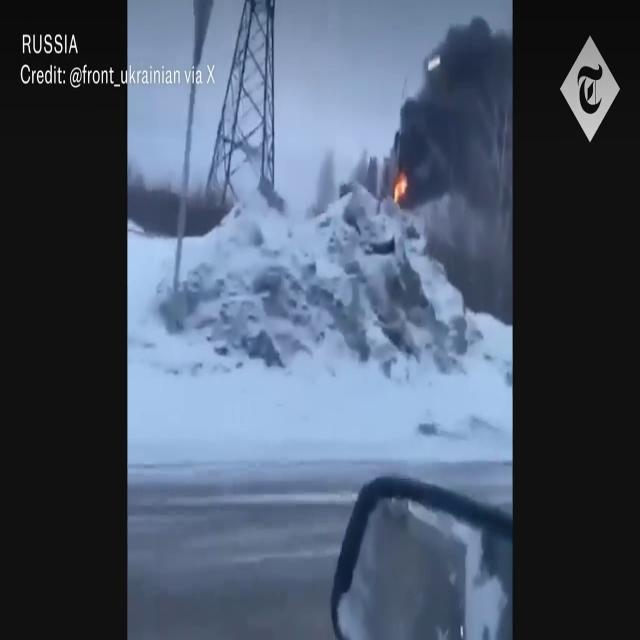Fire: (392, 165, 409, 207)
Smoke: (396, 1, 508, 154)
